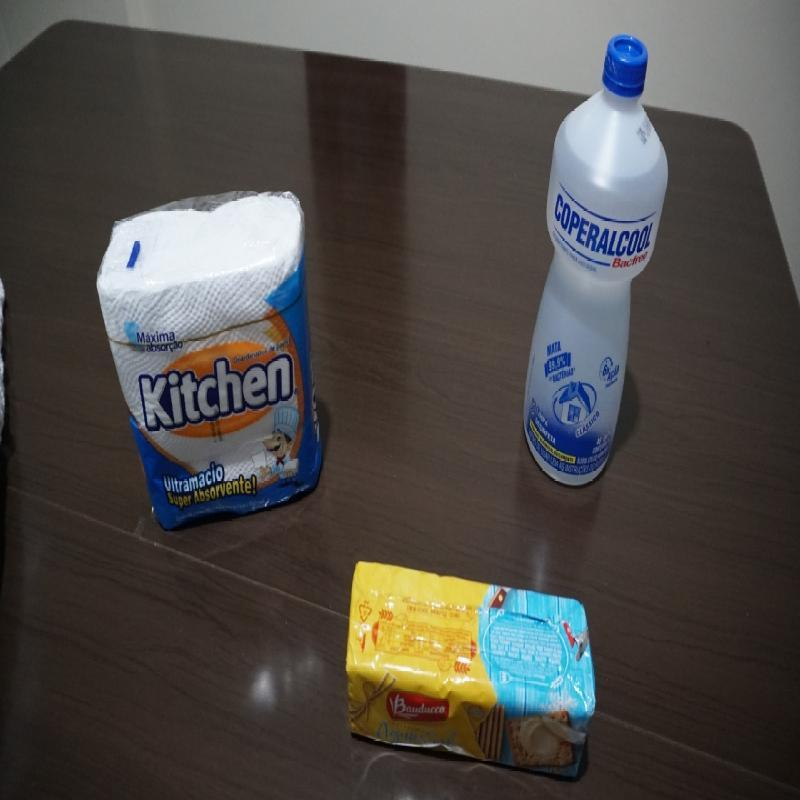Alcohol Bottle: (523, 34, 668, 488)
Cracker: (343, 560, 598, 782)
Napkin: (97, 190, 326, 536)
